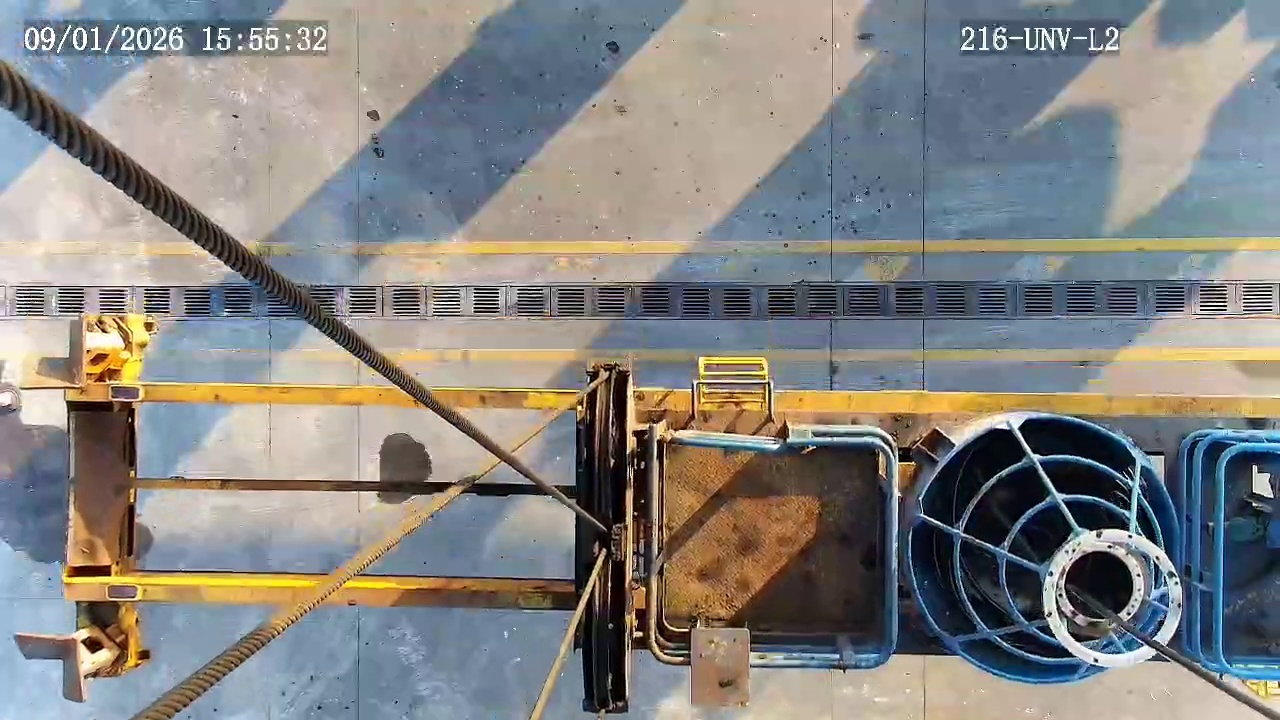left: (907, 414, 1181, 685)
